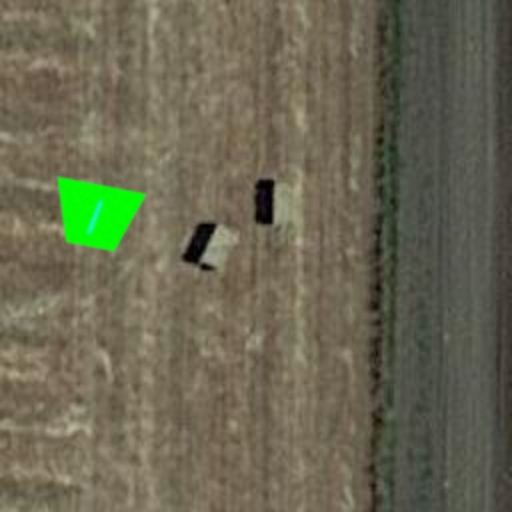trapezoid: (42, 162, 150, 270)
